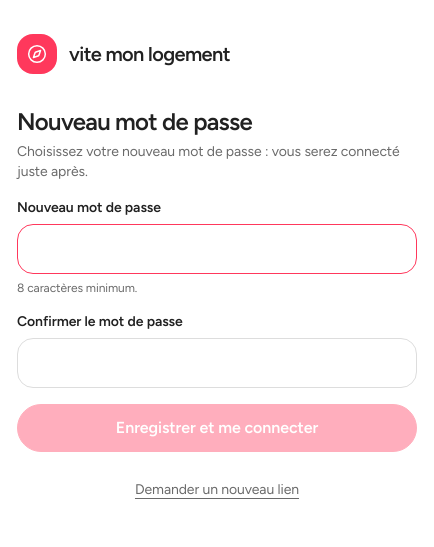
Scenario: AuthGate : mot de passe oublié › lien expiré ou déjà utilisé : le message le dit, « Demander un nouveau lien » ramène au formulaire
Check: the heading "Nouveau mot de passe" is shown, box [17,107,252,136]
Type "nouveau-mdp-1" into the password field labelled "Nouveau mot de passe" at (217, 249), box [17,224,417,274]
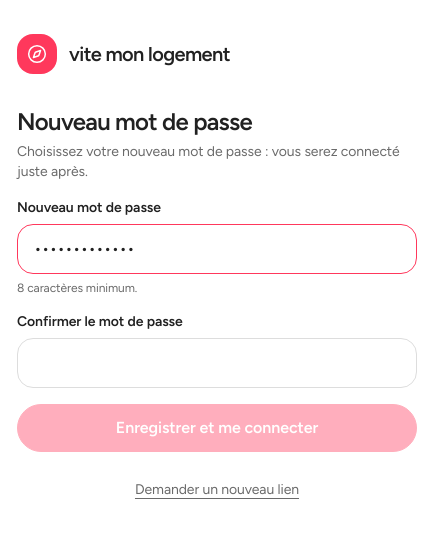
Type "nouveau-mdp-1" into the password field labelled "Confirmer le mot de passe" at (217, 363), box [17,338,417,388]
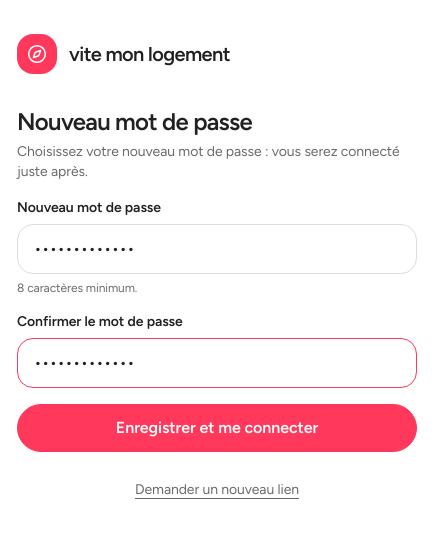
Click the button with test id "button-save-password" at (217, 428), box [17,404,417,452]
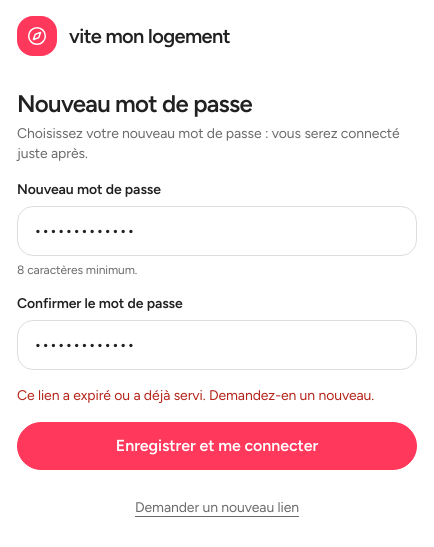
Check: the message with test id "status-login-error" shows "Ce lien a expiré ou a déjà servi", box [17,387,374,404]
Click the button with test id "button-new-reset-link" at (217, 508), box [17,486,417,530]
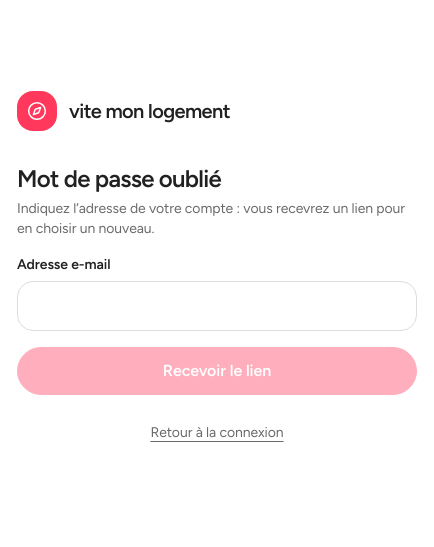
Check: the heading "Mot de passe oublié" is shown, box [17,164,221,193]
